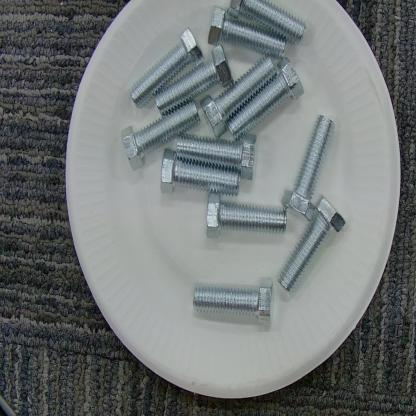FOD: (118, 0, 348, 326)
